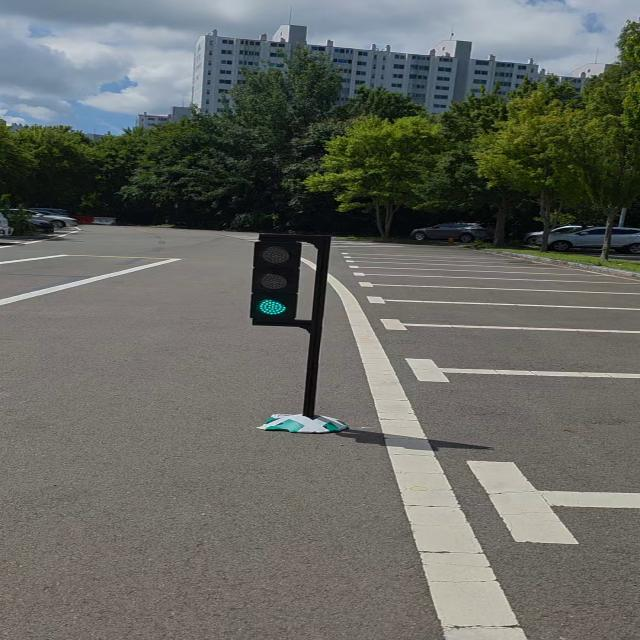green: (250, 232, 302, 328)
